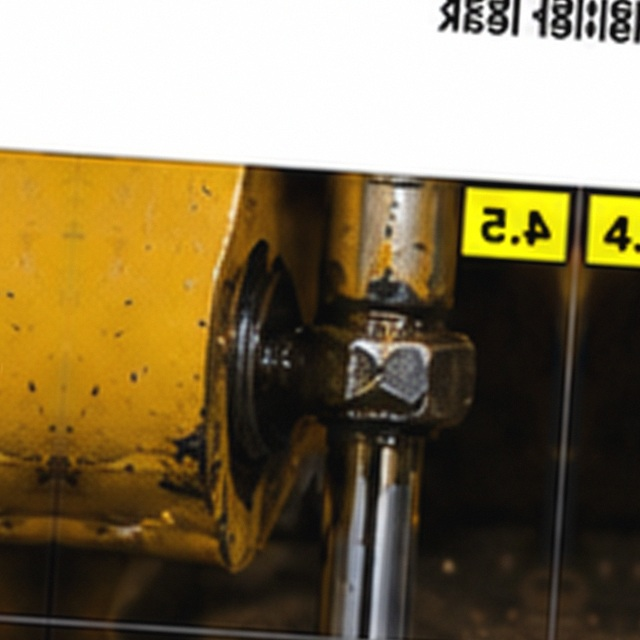hydraulic_oil_leak: (221, 202, 434, 468)
